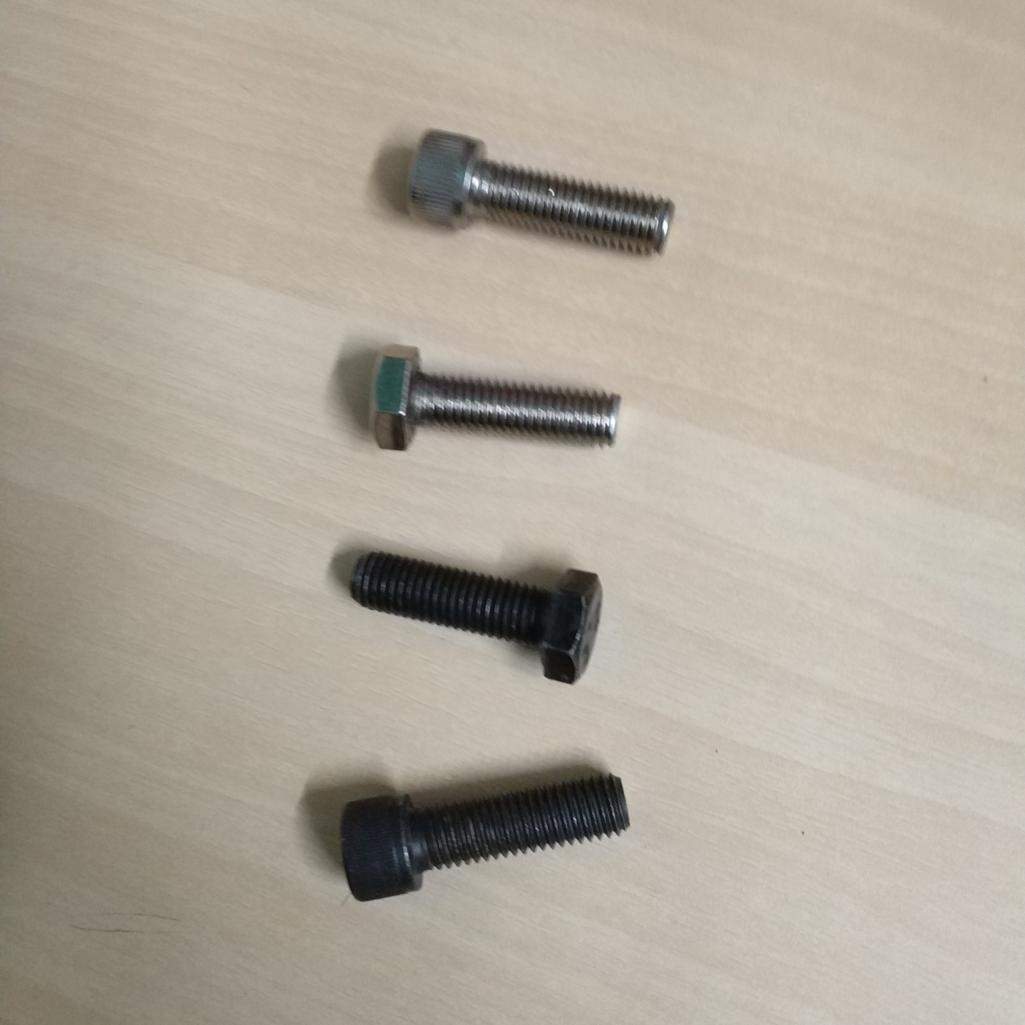screwtype1black: (316, 765, 635, 911)
screwtype1silver: (402, 119, 675, 268)
screwtype2black: (341, 535, 600, 693)
screwtype2silver: (358, 340, 617, 472)
